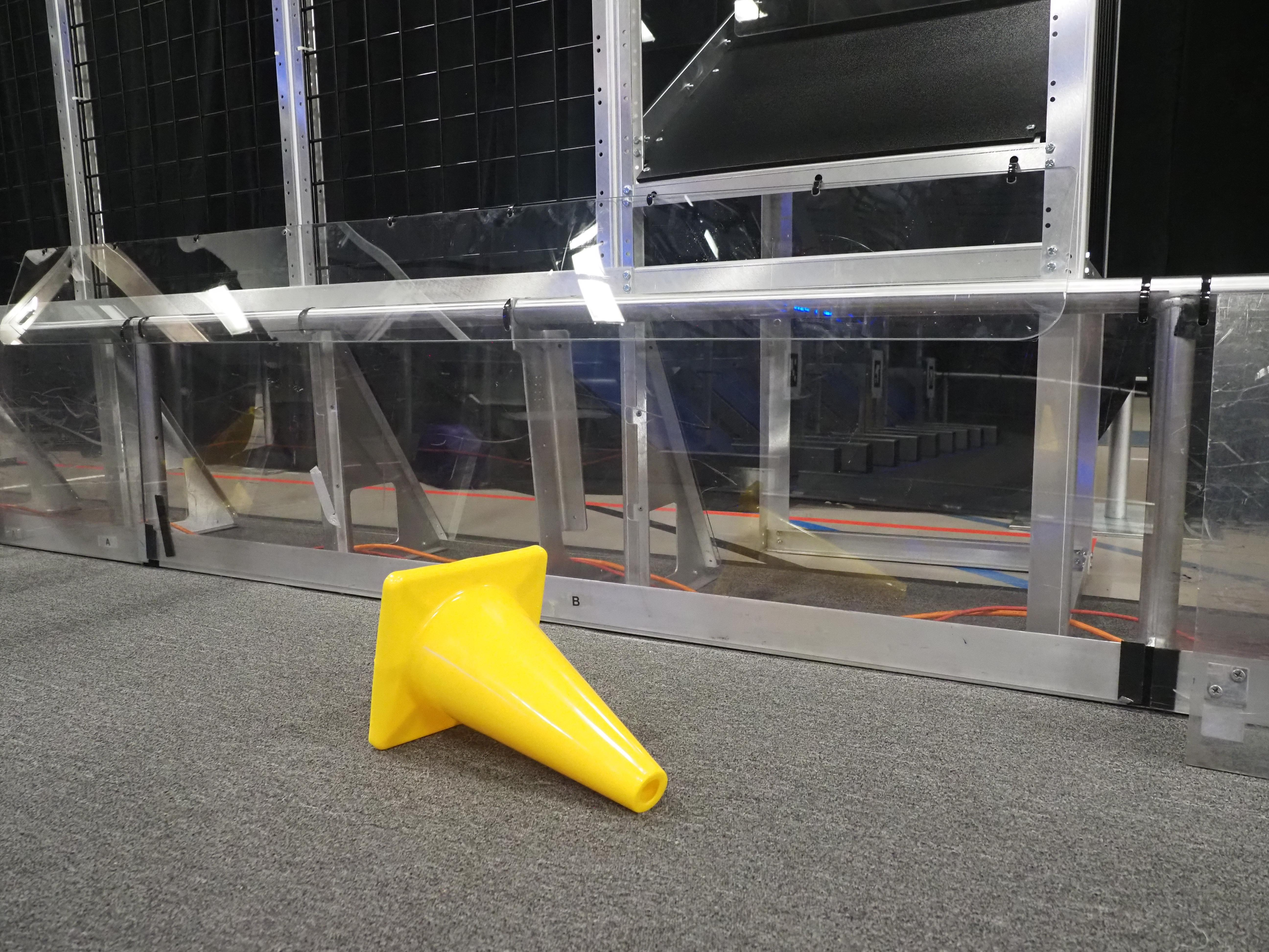cone: (366, 544, 672, 839)
